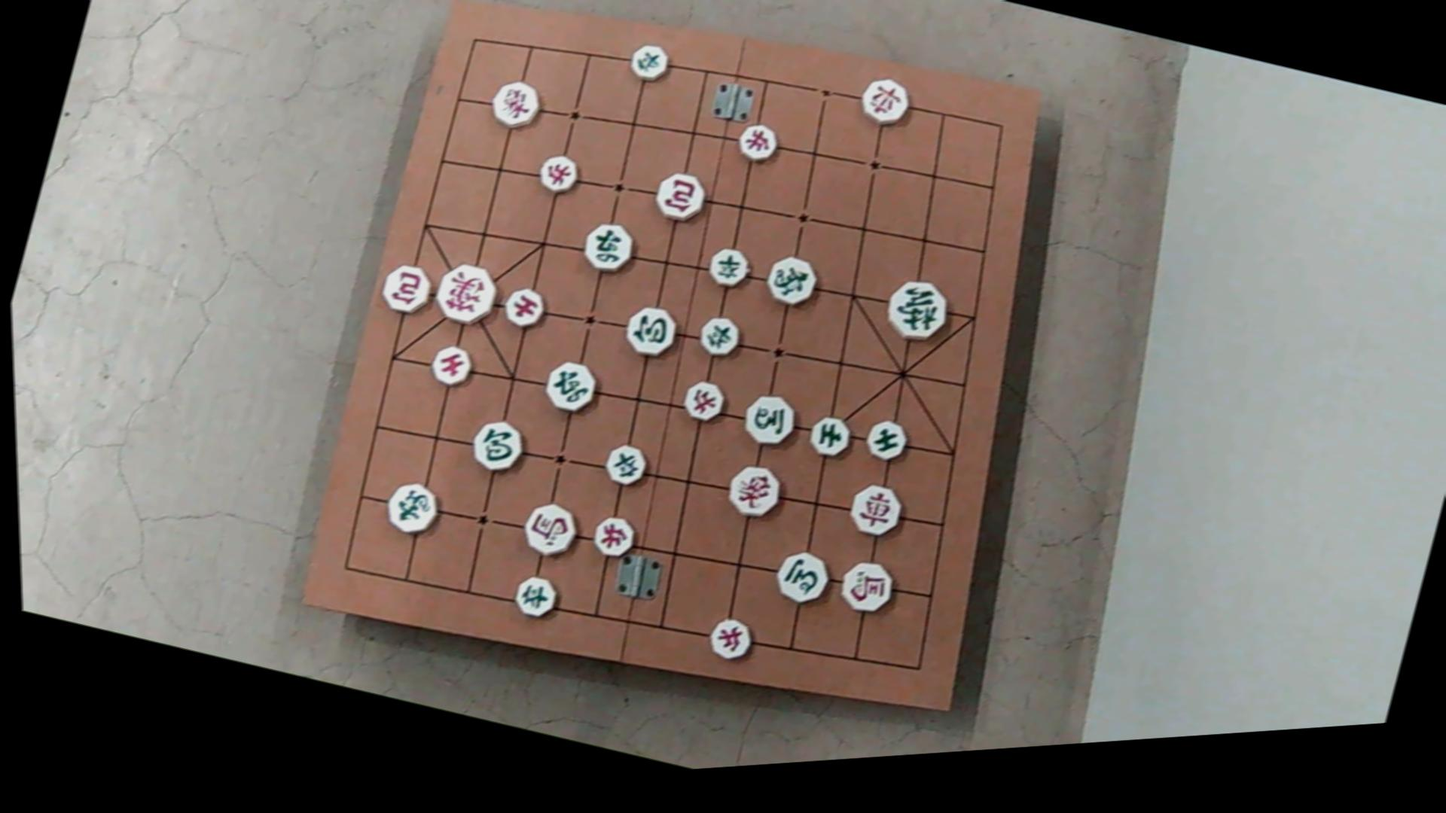cha_green: (576, 215, 637, 278), (539, 355, 600, 417)
cha_red: (845, 477, 907, 540), (856, 70, 915, 129)
jol_green: (602, 440, 652, 490), (509, 570, 559, 620), (694, 311, 743, 361), (703, 244, 752, 292), (626, 38, 673, 86)
jol_red: (706, 613, 758, 665), (587, 513, 639, 564), (680, 376, 729, 425), (532, 148, 581, 196), (734, 119, 783, 167)
ma_green: (770, 544, 834, 608), (738, 388, 801, 451)
ma_red: (516, 495, 581, 562), (833, 553, 897, 617)
po_green: (468, 413, 531, 478), (621, 298, 682, 361)
po_red: (377, 257, 438, 320), (651, 166, 712, 228)
sa_green: (804, 410, 854, 461), (860, 416, 909, 466)
sa_red: (498, 283, 548, 333), (426, 340, 476, 389)
sang_green: (383, 477, 446, 541), (759, 250, 819, 311)
sang_red: (725, 458, 788, 524), (484, 75, 543, 135)
wang_green: (879, 272, 953, 348)
wang_red: (429, 256, 505, 331)
